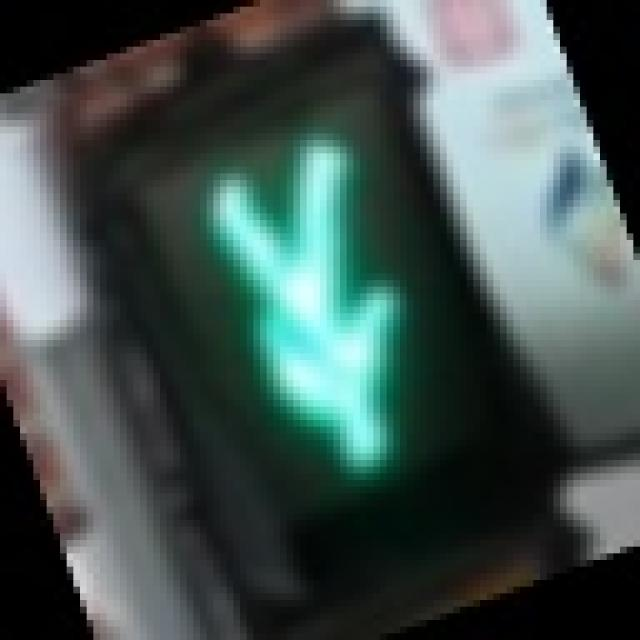green_light: (113, 67, 507, 553)
